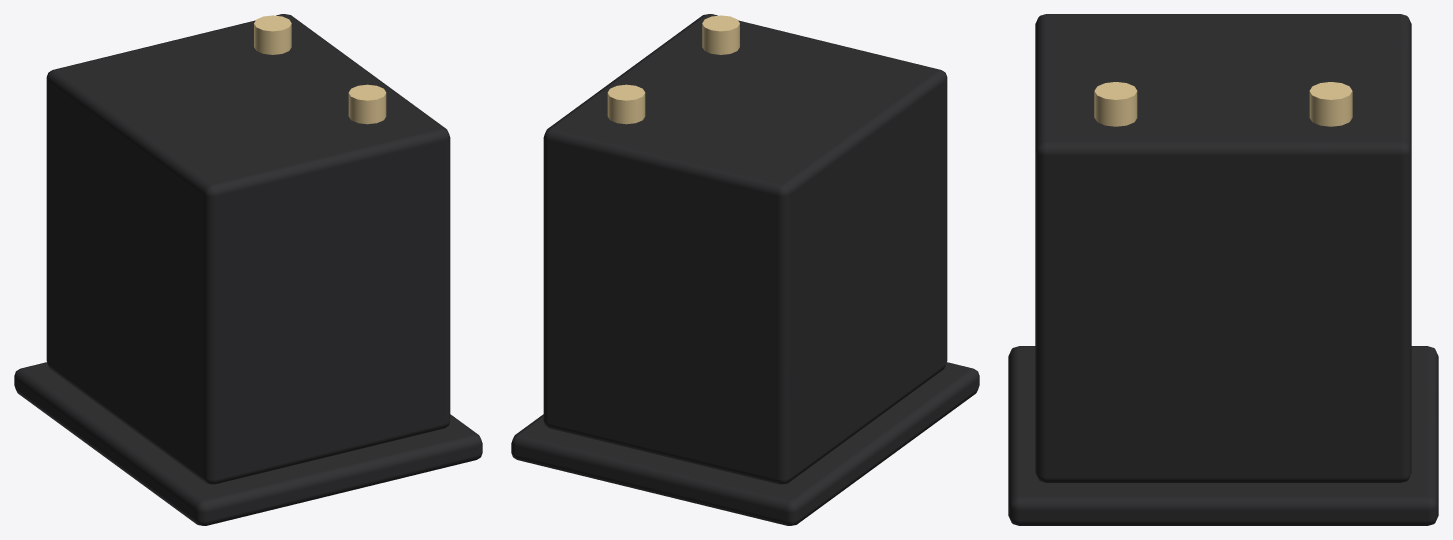
File: bike_classic_4t__battery.glb
3 views of the same model, side by side, from view 1: azimuth 30°, elevation 25°; view 2: azimuth 150°, elevation 25°; view 3: azimuth 270°, elevation 25° (orthographic). The views are drawn at different scales.
Visible parts, largest first — view 1: electrical__battery, electrical__battery__terminals; view 2: electrical__battery, electrical__battery__terminals; view 3: electrical__battery, electrical__battery__terminals.
Part boxes in pixels (x1=…): electrical__battery: x1=14, y1=14, x2=482, y2=525; electrical__battery__terminals: x1=254, y1=15, x2=386, y2=124; electrical__battery: x1=511, y1=14, x2=979, y2=525; electrical__battery__terminals: x1=607, y1=15, x2=739, y2=124; electrical__battery: x1=1008, y1=14, x2=1438, y2=525; electrical__battery__terminals: x1=1094, y1=82, x2=1352, y2=126.
Size of the model in its own units: 14 by 16.4 by 16.
